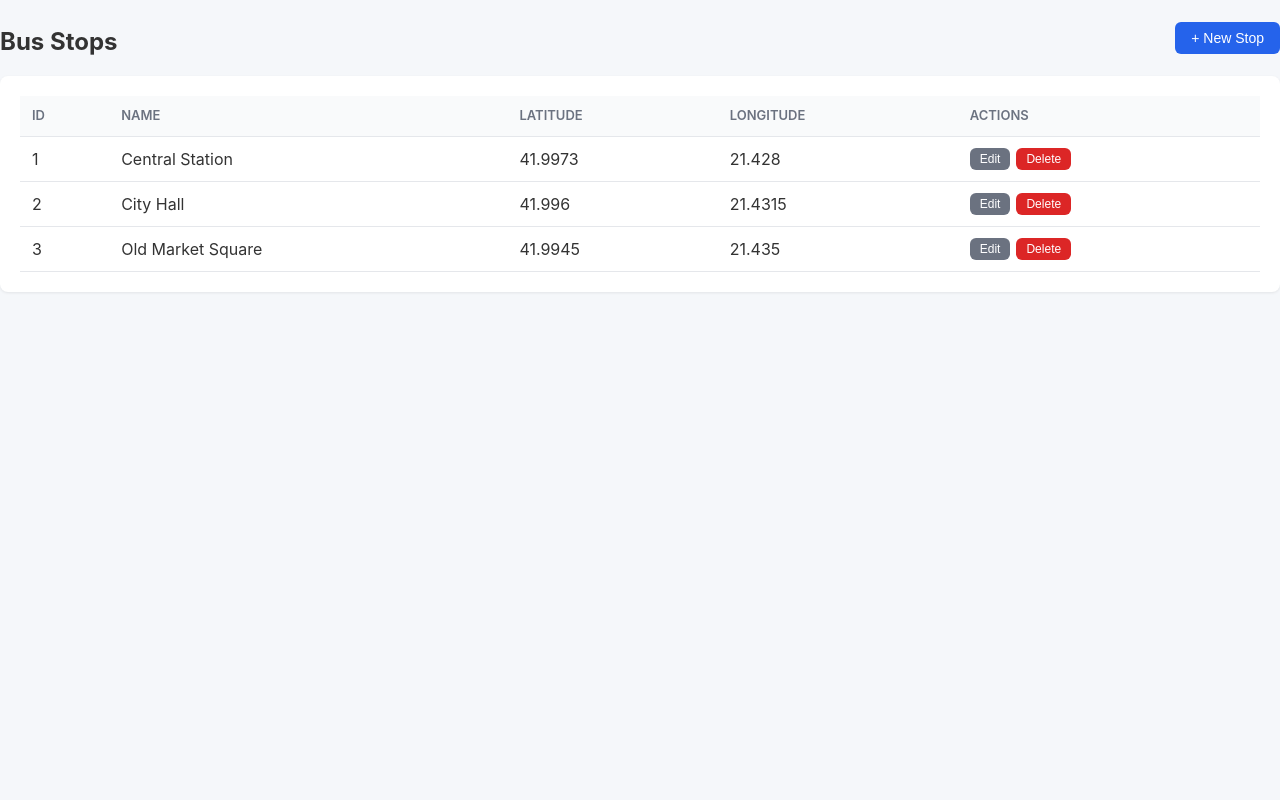
Test: BusStops Page › opens edit modal with pre-filled data
The image size is (1280, 800).
Expected: the text "Central Station" is shown, x1=109 y1=136 x2=507 y2=181
What coordinates should you click on to do the following:
click the button "Edit" in the row of "Central Station"
I would click on:
 (990, 158)
Its box is x1=970 y1=148 x2=1010 y2=170.
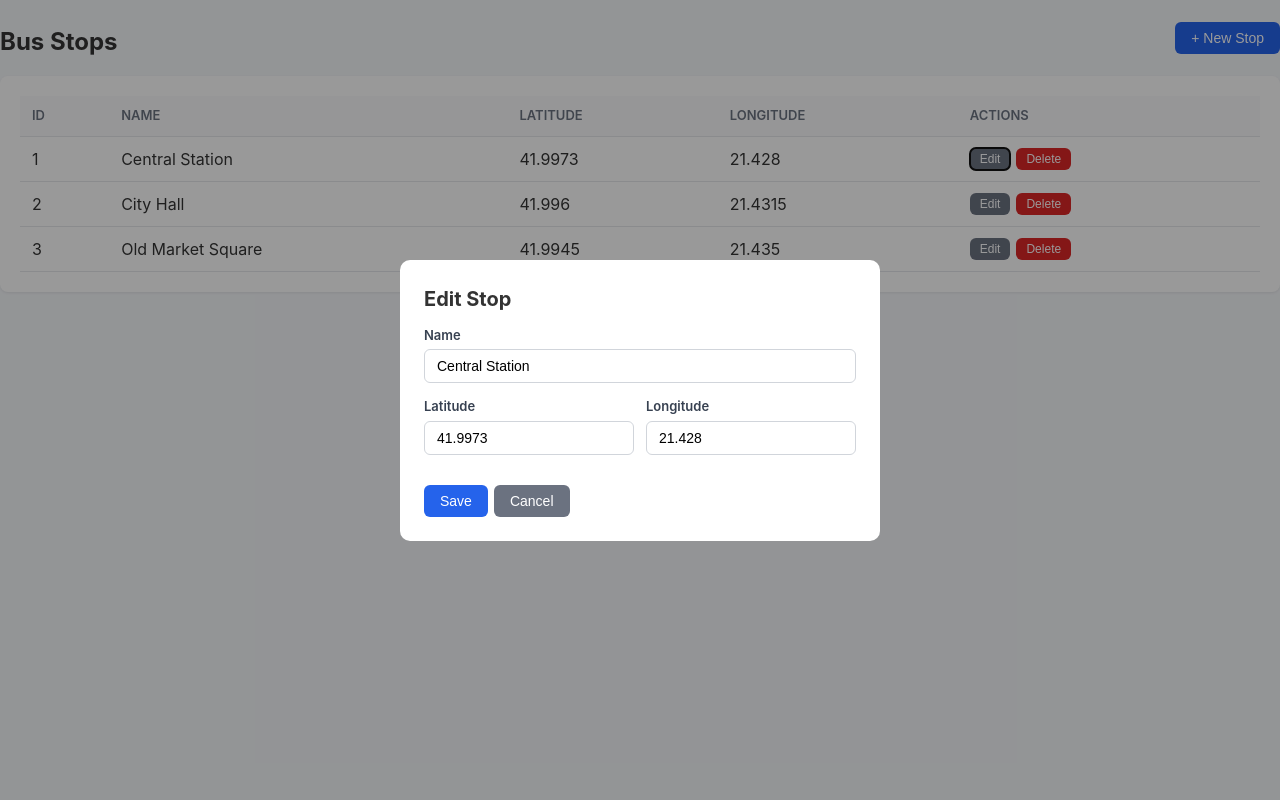
Expected: the heading "Edit Stop" is shown, x1=424 y1=286 x2=511 y2=310
Expected: the field showing "Central Station" is shown, x1=424 y1=349 x2=856 y2=383
Expected: the 1st number field showing "41.9973" is shown, x1=424 y1=420 x2=634 y2=454
